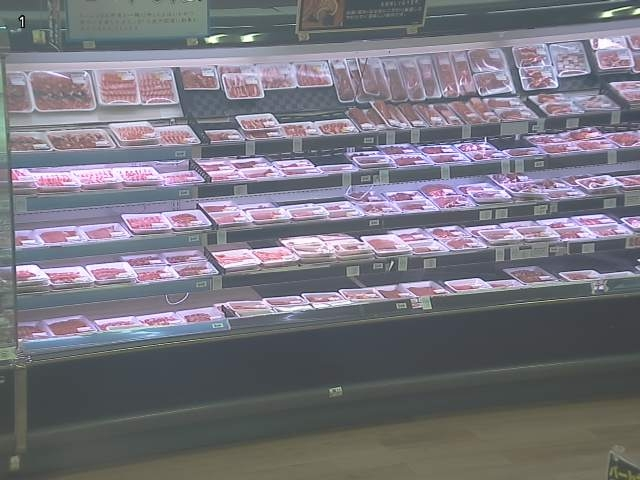meat: (2, 172, 639, 250), (2, 266, 603, 344), (0, 128, 639, 197), (213, 213, 639, 276), (178, 49, 513, 102), (205, 97, 538, 143), (0, 251, 214, 297), (4, 70, 177, 112), (8, 123, 199, 153), (509, 44, 589, 90), (527, 91, 618, 119), (590, 34, 639, 73), (609, 80, 639, 102)
meatless: (1, 248, 639, 326), (8, 85, 366, 132), (2, 215, 119, 230), (556, 71, 637, 91), (207, 239, 282, 252), (38, 257, 122, 268), (270, 155, 351, 165), (274, 197, 348, 207), (484, 137, 532, 149), (603, 207, 638, 222)
